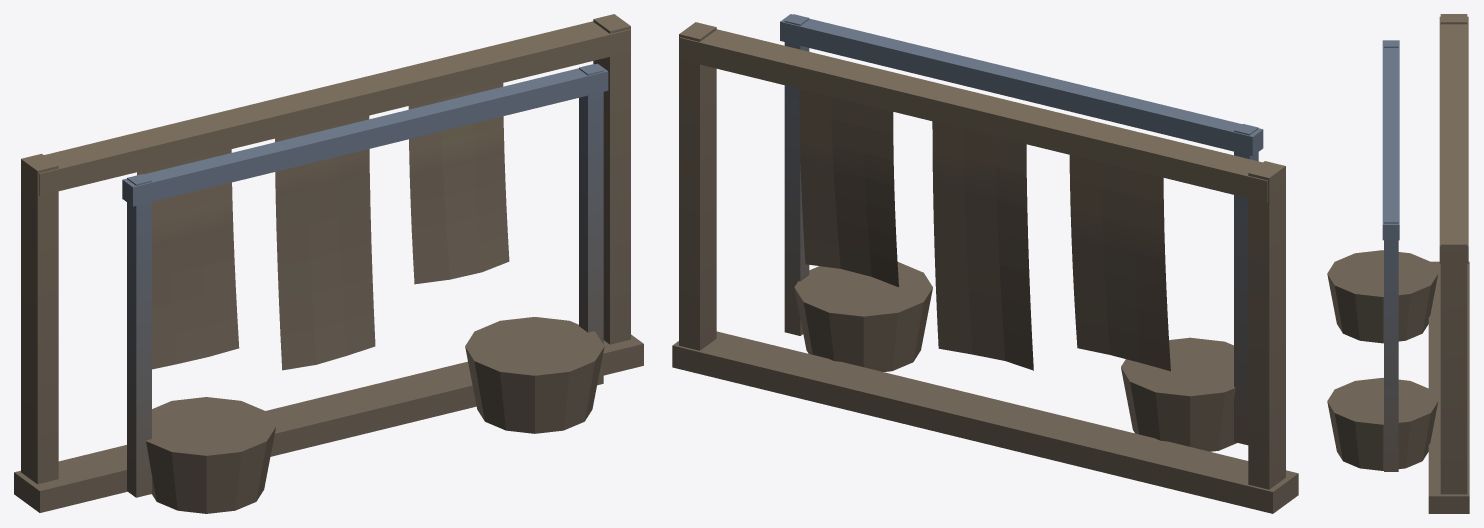
The model's file is facade_dye.glb.
3 views of the same model, side by side, from view 1: azimuth 30°, elevation 25°; view 2: azimuth 150°, elevation 25°; view 3: azimuth 270°, elevation 25° (orthographic). The views are drawn at different scales.
Visible parts, largest first — view 1: facade_dye; view 2: facade_dye; view 3: facade_dye.
Boxes of the visible parts, x1,y1,x2,y2 form: facade_dye: (14, 14, 643, 513); facade_dye: (672, 14, 1298, 513); facade_dye: (1327, 14, 1469, 513).
Bounding box in the file's own units: 4.6 × 2.44 × 1.18.
